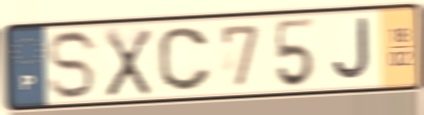5: (271, 16, 318, 91)
7: (217, 21, 262, 90)
C: (155, 25, 216, 94)
J: (329, 15, 374, 84)
S: (45, 27, 102, 103)
X: (102, 25, 155, 100)
